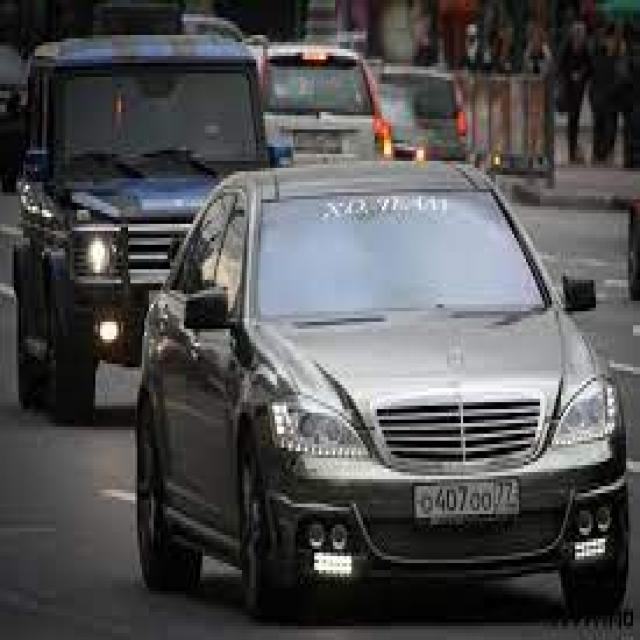number-plates: (411, 476, 518, 530)
